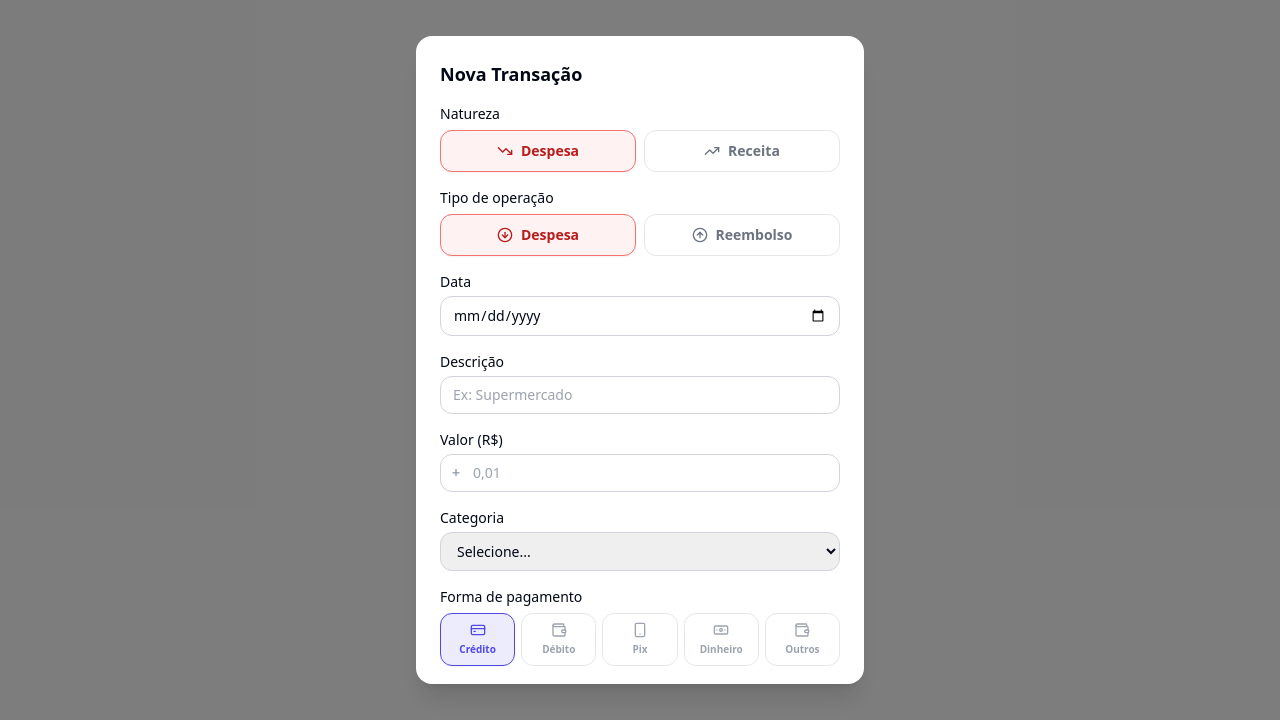
it: TransactionModal › shows error for amount above maximum
Type "2024-01-01" into the date field labelled "Data" at [640, 316], box x1=440 y1=296 x2=840 y2=336
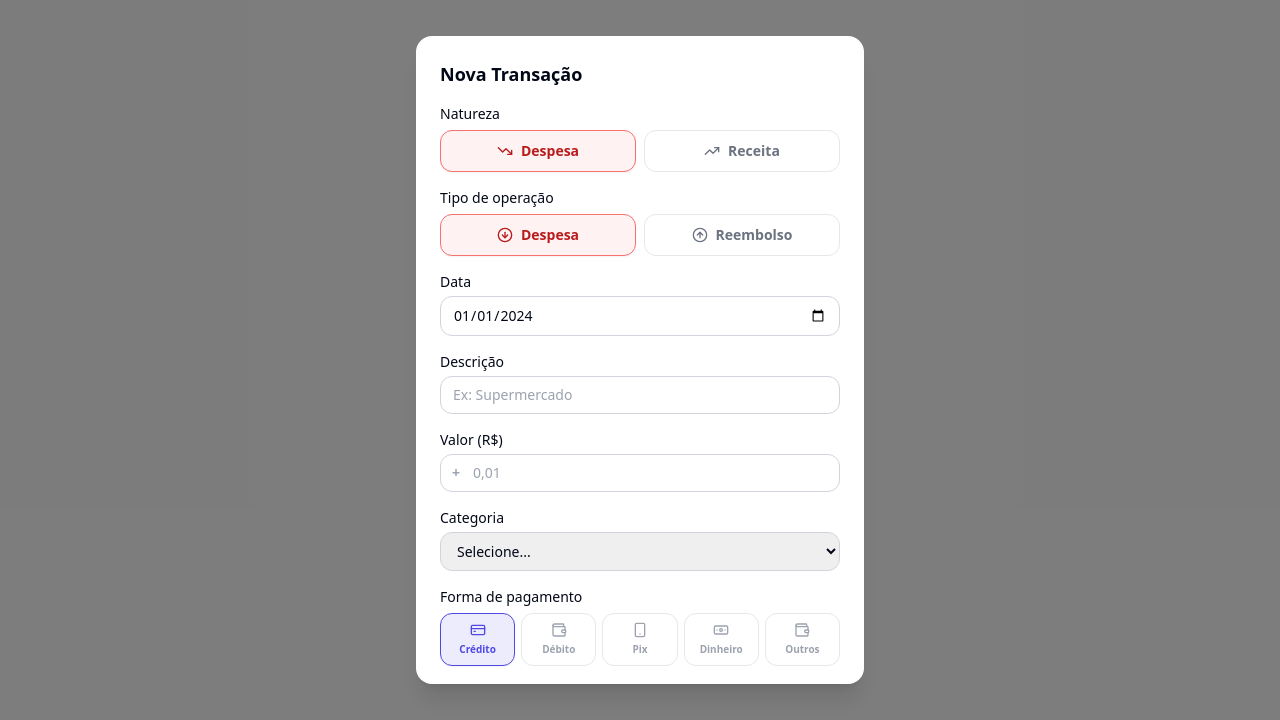
Type "Test" into the field labelled "Descrição" at [640, 395], box x1=440 y1=376 x2=840 y2=414
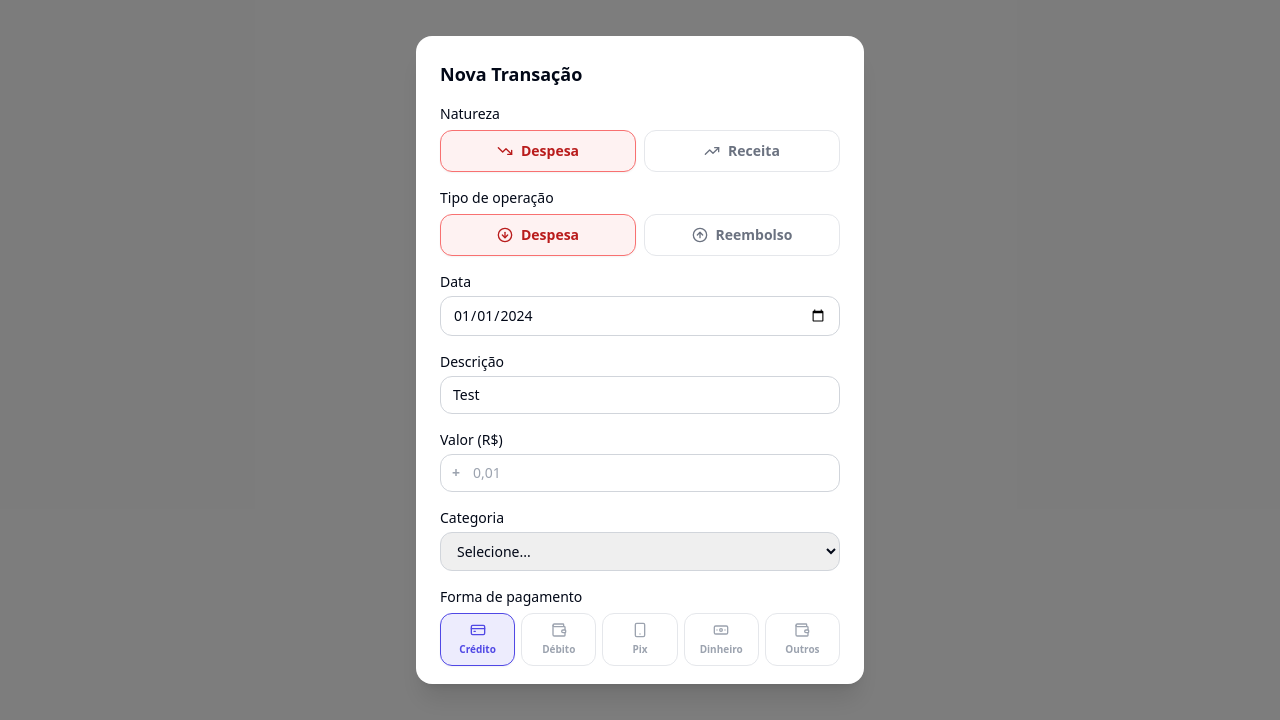
Type "10000000,00" into the field labelled "Valor (R$)" at [640, 473], box x1=440 y1=454 x2=840 y2=492
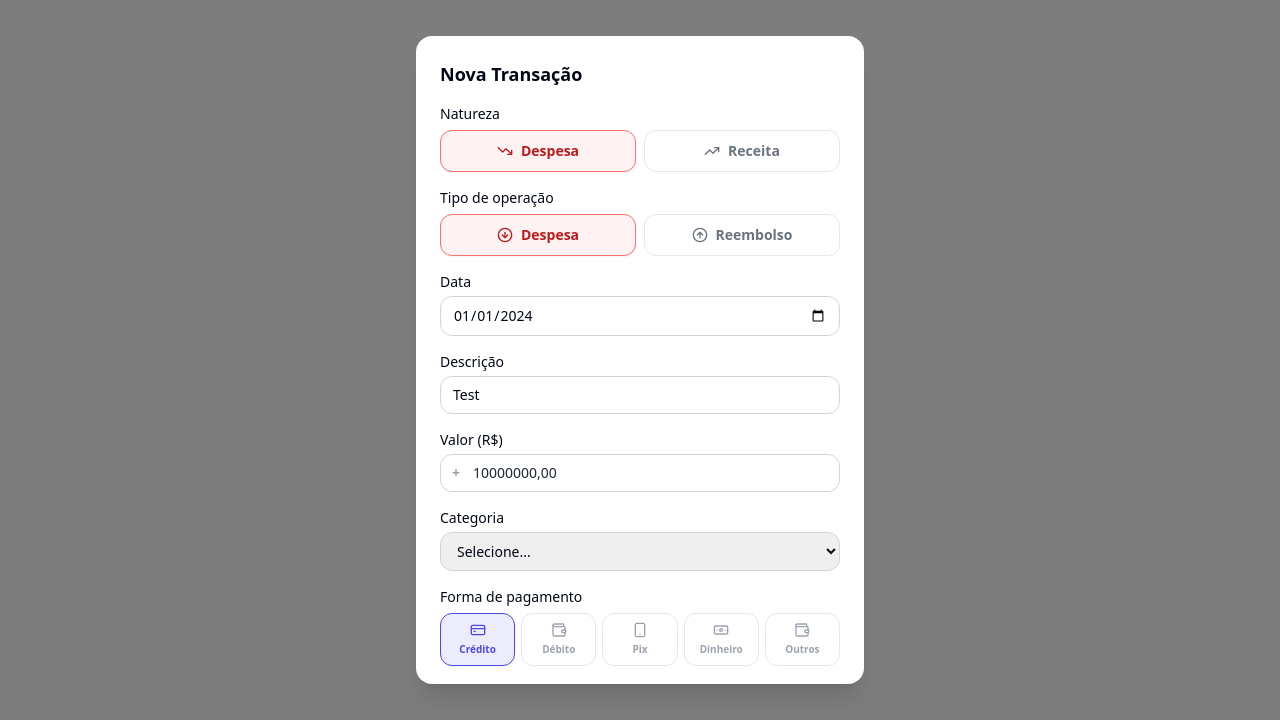
Select "Alimentação" in the dropdown labelled "Categoria" at [640, 552], box x1=440 y1=532 x2=840 y2=571
(page scrolled)
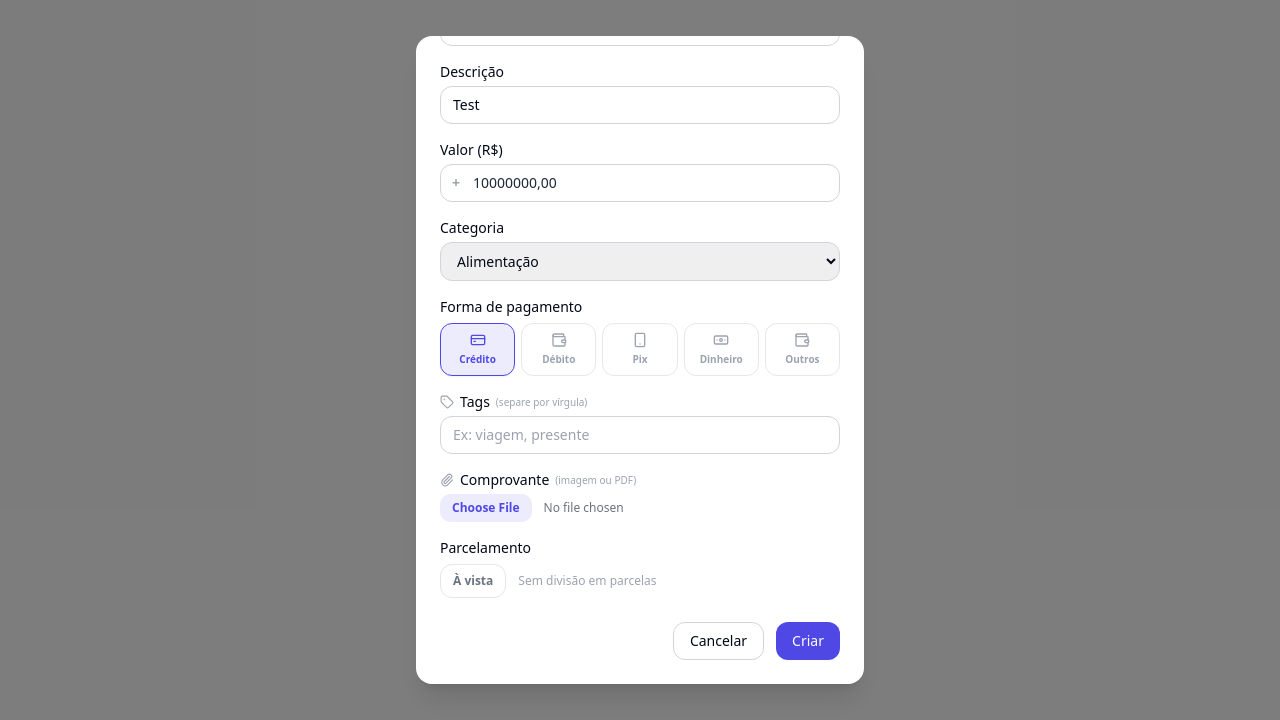
Click the button "Criar" at [808, 641], box x1=776 y1=622 x2=840 y2=660
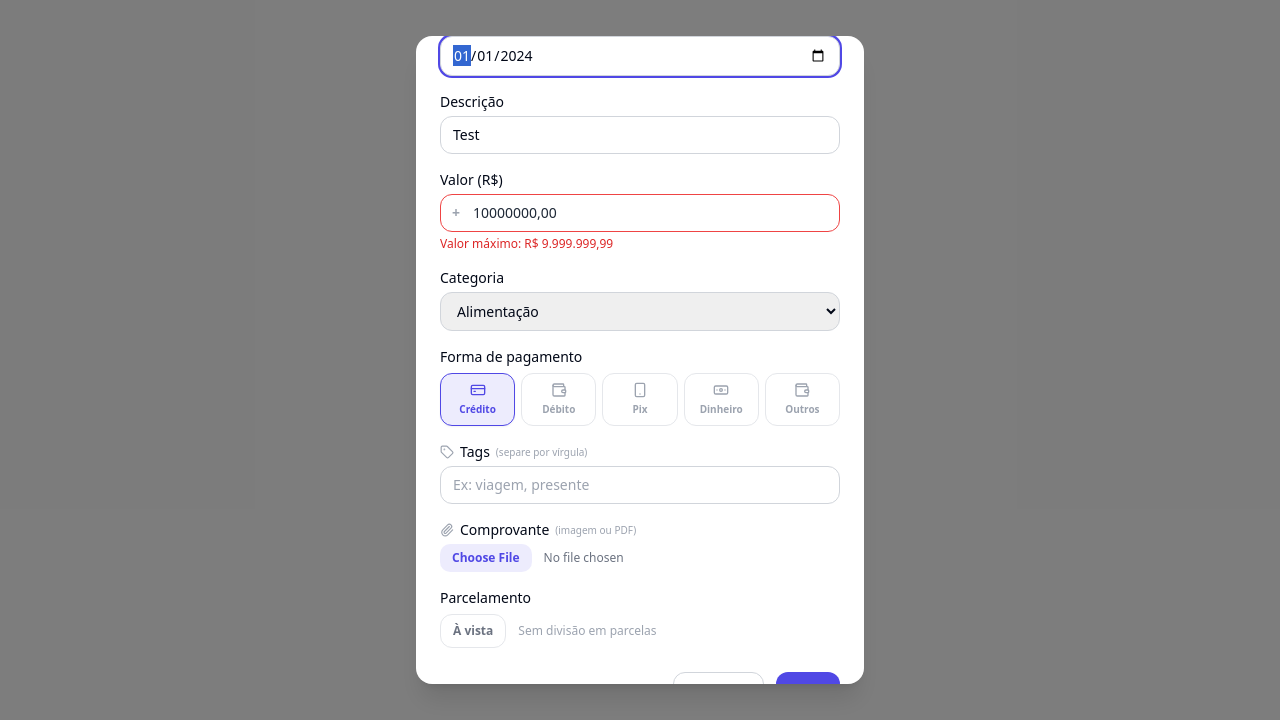
Now the text "Valor máximo: R$ 9.999.999,99" is shown, box x1=440 y1=235 x2=613 y2=252
